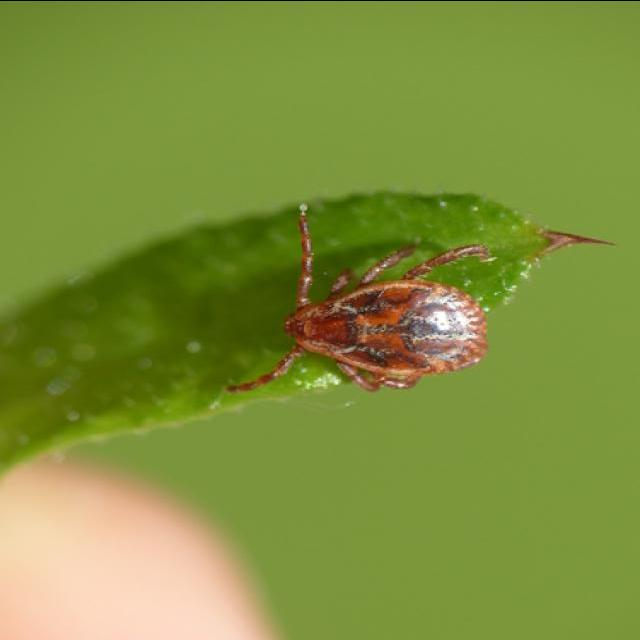Dermacentor Reticulatus-M: (224, 204, 488, 392)
